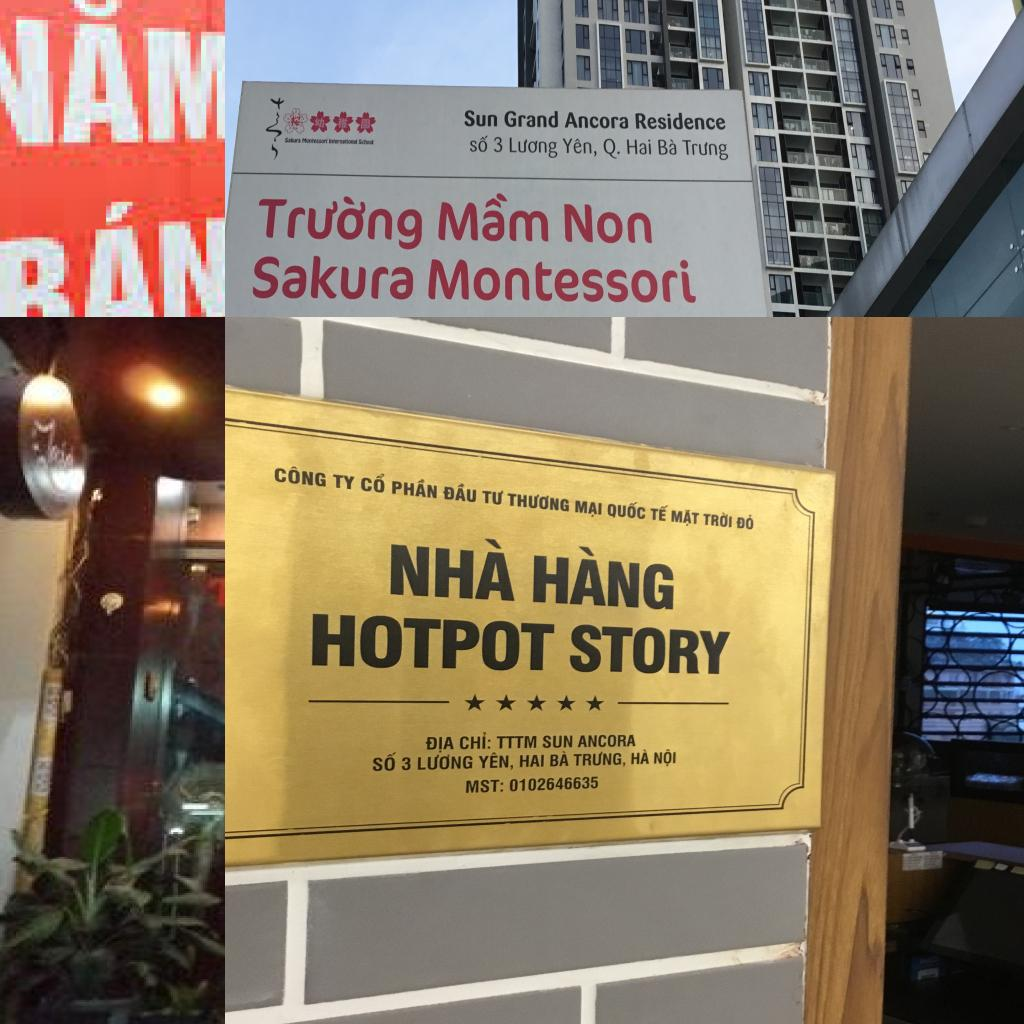text: (0, 0, 225, 158), (0, 190, 225, 317), (620, 583, 697, 766), (257, 193, 425, 254), (524, 491, 616, 601), (505, 612, 604, 708), (249, 249, 416, 302), (633, 450, 701, 574), (436, 188, 550, 244), (562, 200, 654, 246), (634, 112, 728, 132), (836, 549, 857, 618), (420, 754, 454, 795), (457, 572, 485, 620), (563, 110, 630, 130), (503, 108, 559, 130), (508, 136, 558, 160), (435, 670, 468, 706), (681, 138, 730, 162), (806, 644, 830, 687), (803, 528, 826, 571), (780, 521, 800, 567), (466, 514, 496, 544), (442, 640, 474, 668), (561, 136, 598, 159), (464, 108, 499, 129), (804, 614, 830, 642), (480, 450, 508, 473), (468, 546, 494, 570), (840, 620, 860, 651), (782, 596, 801, 628), (430, 709, 460, 729), (478, 474, 504, 497), (777, 631, 801, 655), (784, 657, 806, 681), (799, 491, 826, 510), (805, 702, 831, 721), (626, 138, 653, 156), (602, 137, 621, 162), (432, 732, 456, 751), (781, 569, 800, 593), (452, 620, 476, 638), (469, 134, 489, 154), (657, 137, 678, 156), (485, 433, 510, 448), (807, 591, 826, 610), (473, 497, 497, 512), (800, 511, 822, 527), (802, 572, 825, 587), (301, 137, 329, 145), (328, 138, 358, 145), (493, 136, 503, 154), (810, 691, 831, 699), (284, 136, 302, 144), (358, 138, 375, 146)
